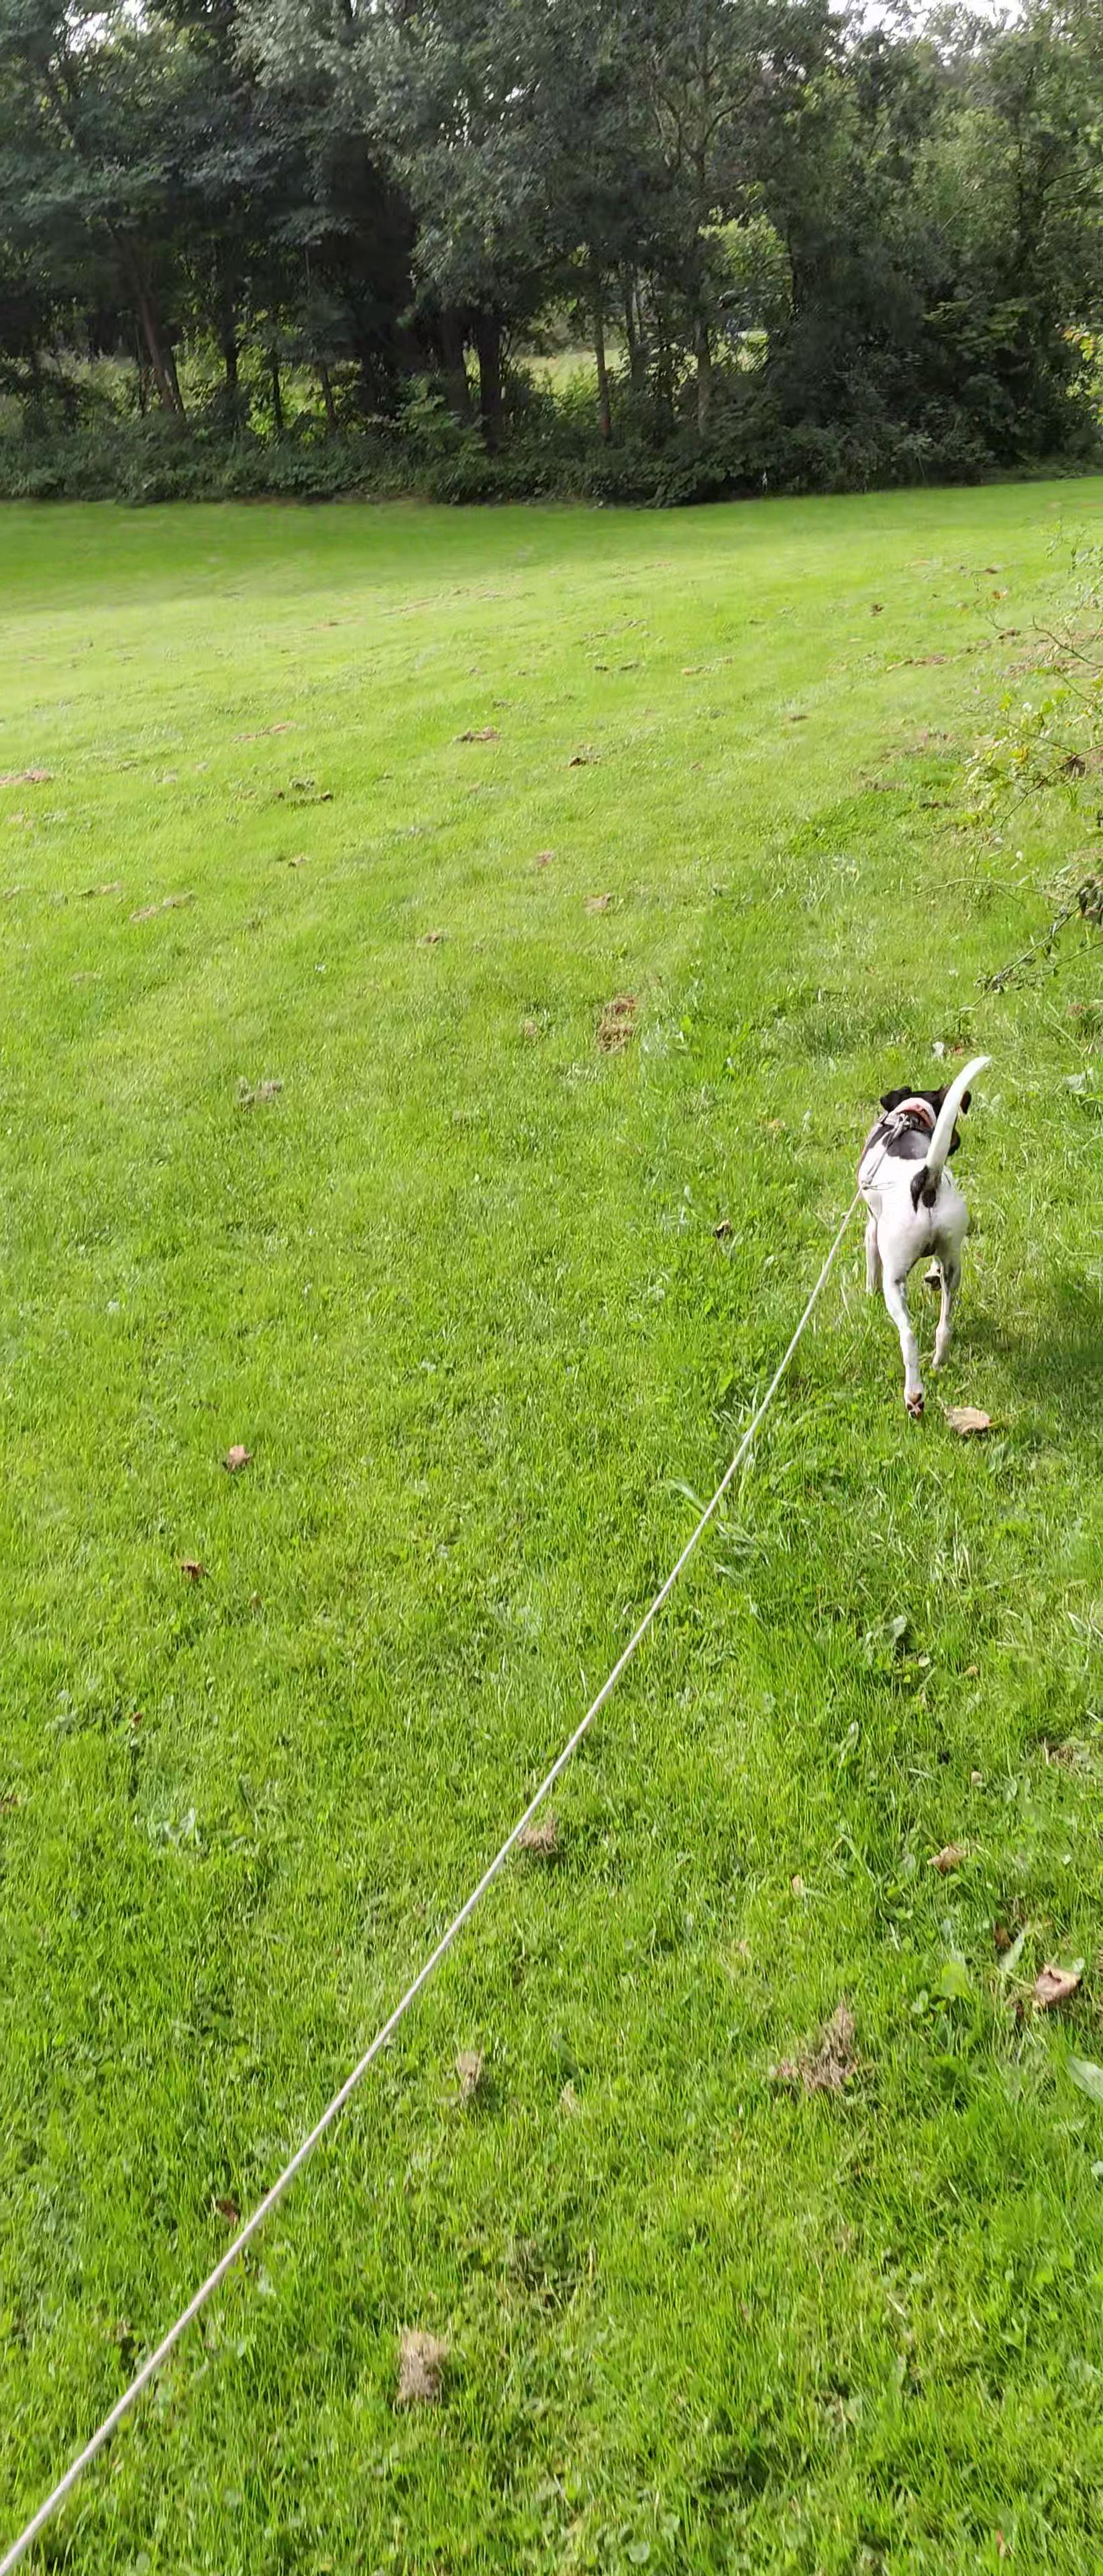Dog: (851, 1050, 996, 1428)
